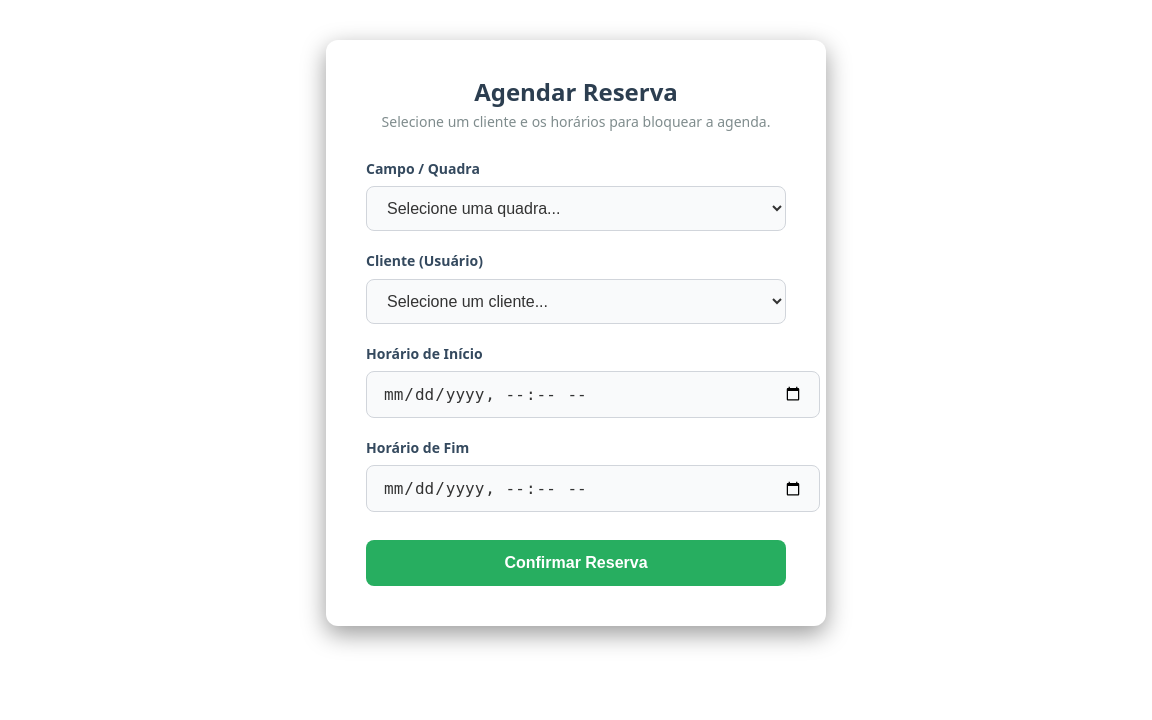
Componente CadastroReserva › mostra erro de preenchimento quando tentar enviar vazio
The image size is (1152, 720).
Step 1. Click the button "Confirmar Reserva" → click(576, 563), box x1=366 y1=540 x2=786 y2=586
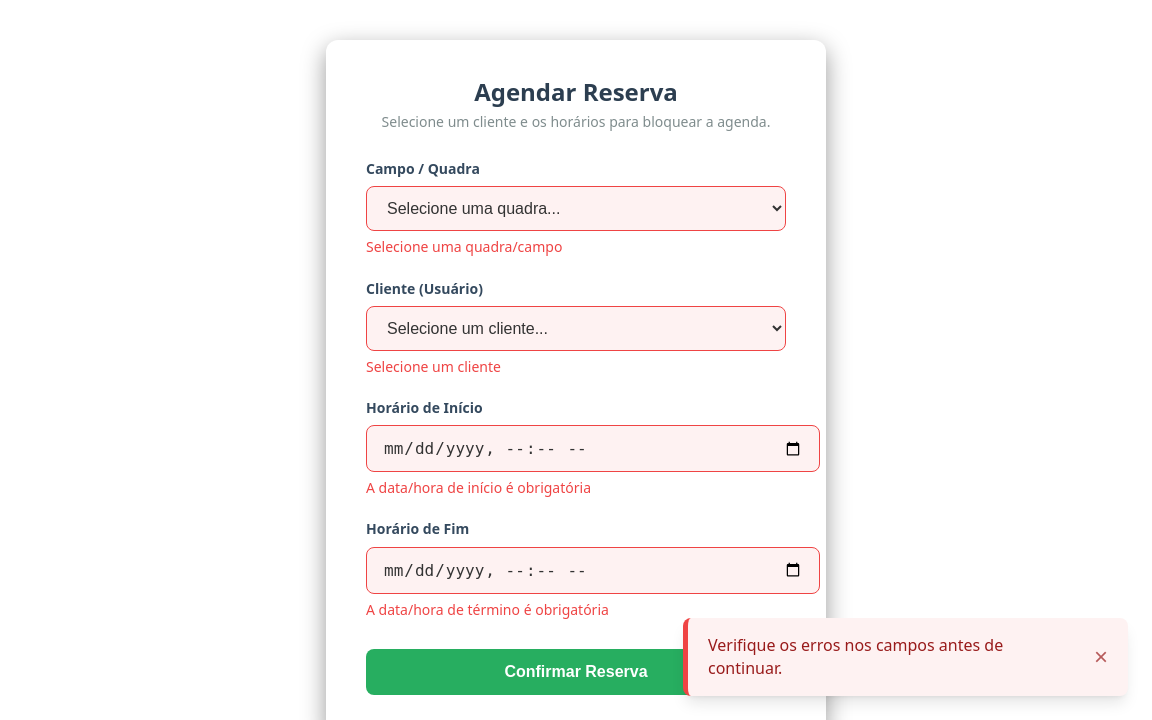
Now the text "Selecione uma quadra/campo" is shown, box x1=366 y1=237 x2=562 y2=256
